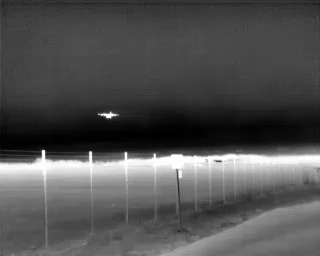AIRPLANE: (96, 109, 121, 122)
